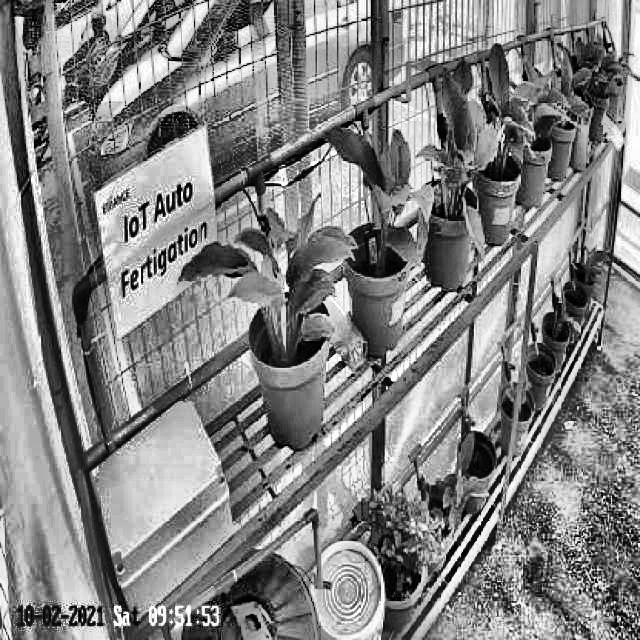plants: (178, 208, 354, 347), (417, 62, 506, 256), (326, 114, 434, 272), (470, 42, 548, 181)
